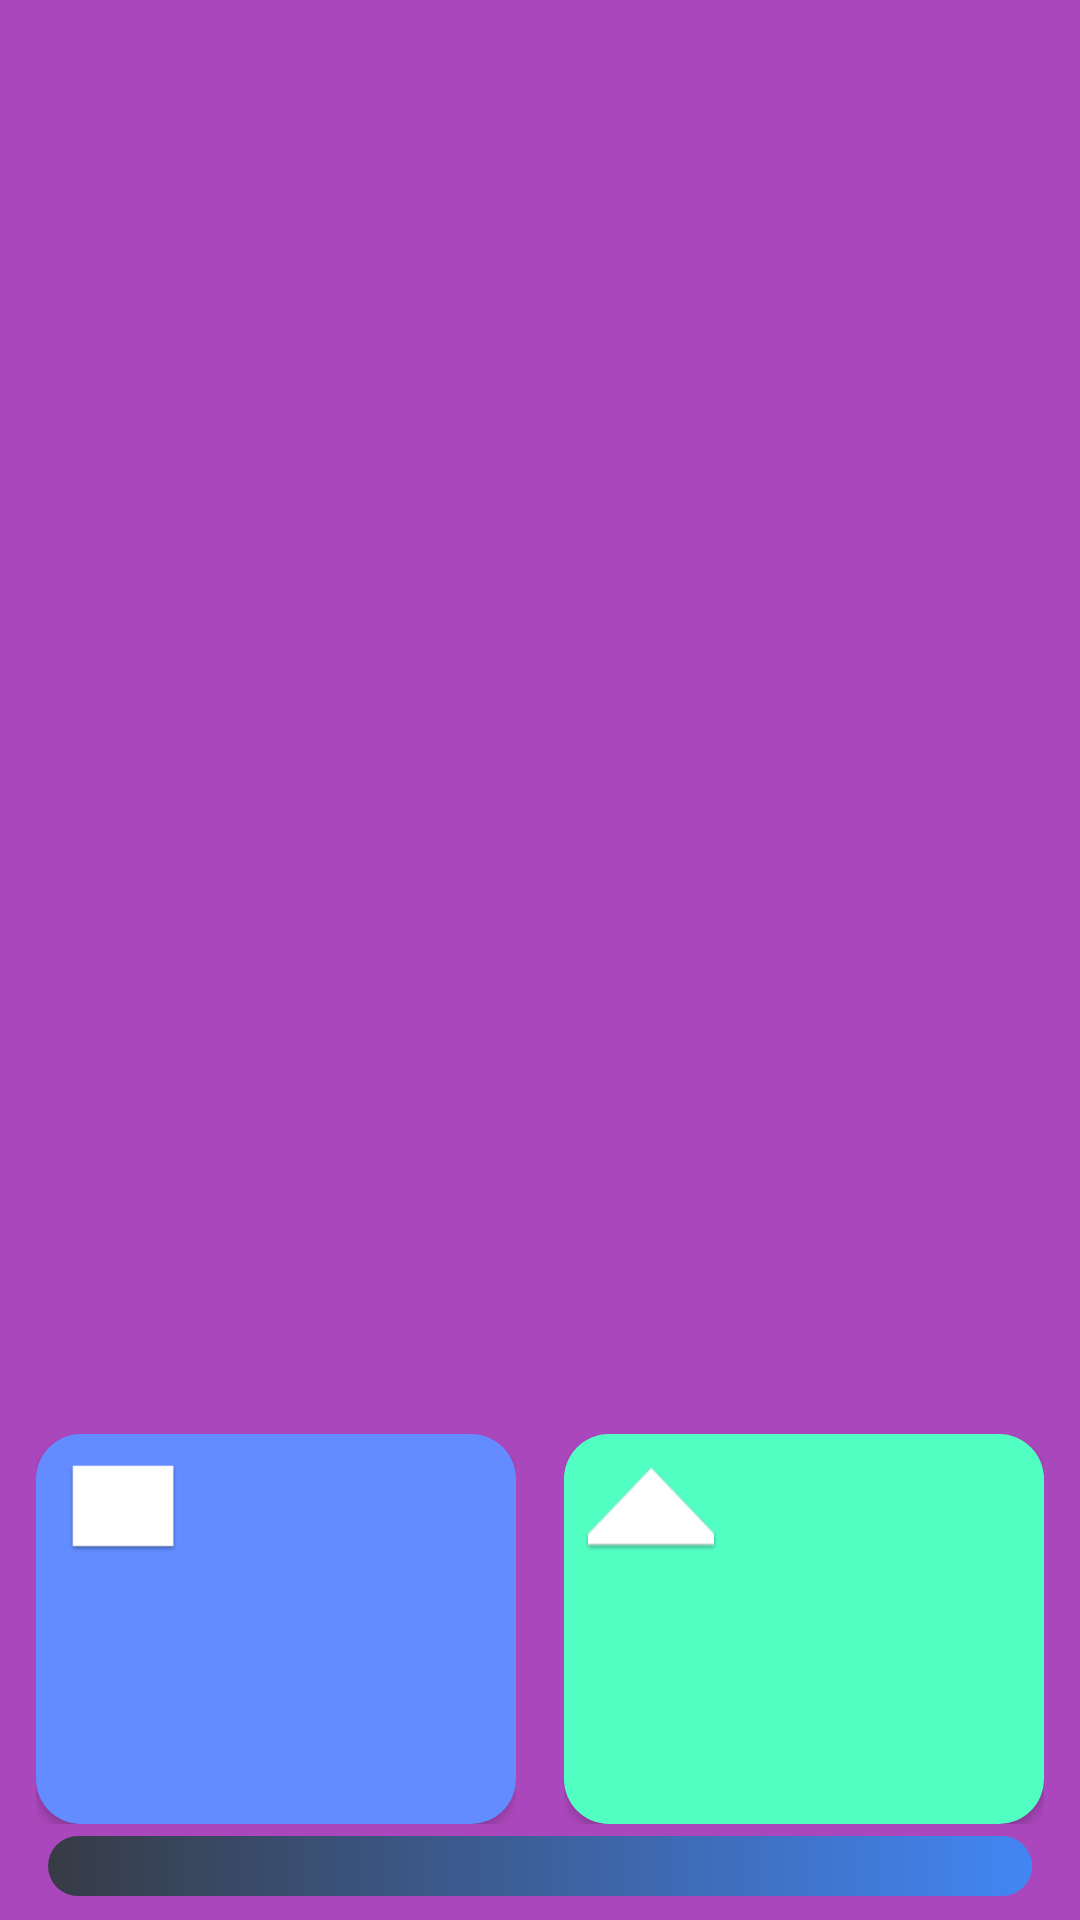

Icon click points for this 1080px x 1920px phone screenshot, format [x,y]:
square: [123,1507]
triangle: [651,1507]
